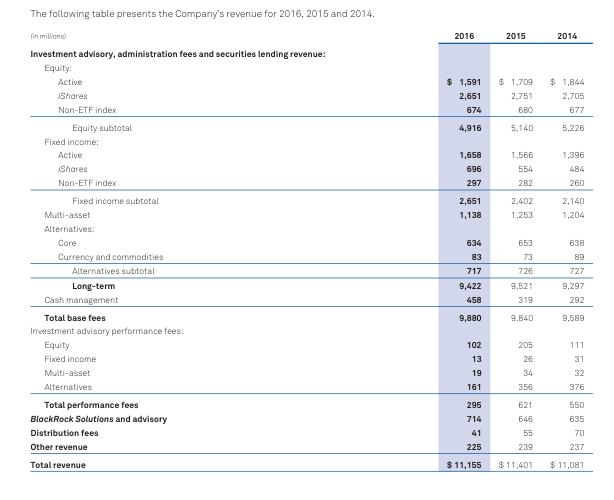table: (29, 29, 583, 469)
table column: (29, 29, 306, 469), (306, 29, 489, 469), (489, 29, 540, 469), (540, 29, 583, 469)
table column header: (29, 29, 583, 43)
table projected row header: (29, 43, 583, 60), (29, 133, 583, 147), (29, 323, 583, 337), (29, 60, 583, 73), (29, 221, 583, 234)
table row: (29, 43, 583, 60), (29, 101, 583, 117), (29, 117, 583, 133), (29, 175, 583, 191), (29, 191, 583, 207), (29, 291, 583, 307), (29, 307, 583, 323), (29, 394, 583, 410), (29, 438, 583, 454), (29, 262, 583, 277), (29, 379, 583, 394), (29, 454, 583, 469), (29, 29, 583, 43), (29, 73, 583, 87), (29, 87, 583, 101), (29, 133, 583, 147), (29, 147, 583, 161), (29, 161, 583, 175), (29, 207, 583, 221), (29, 234, 583, 248), (29, 248, 583, 262), (29, 277, 583, 291), (29, 323, 583, 337), (29, 337, 583, 351), (29, 351, 583, 365), (29, 365, 583, 379), (29, 410, 583, 424), (29, 424, 583, 438), (29, 60, 583, 73), (29, 221, 583, 234)
